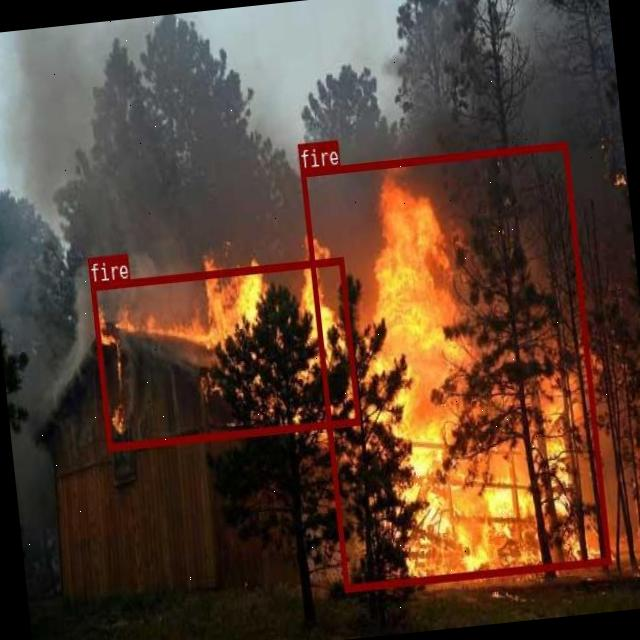fire: (300, 140, 610, 589), (89, 256, 359, 450)
